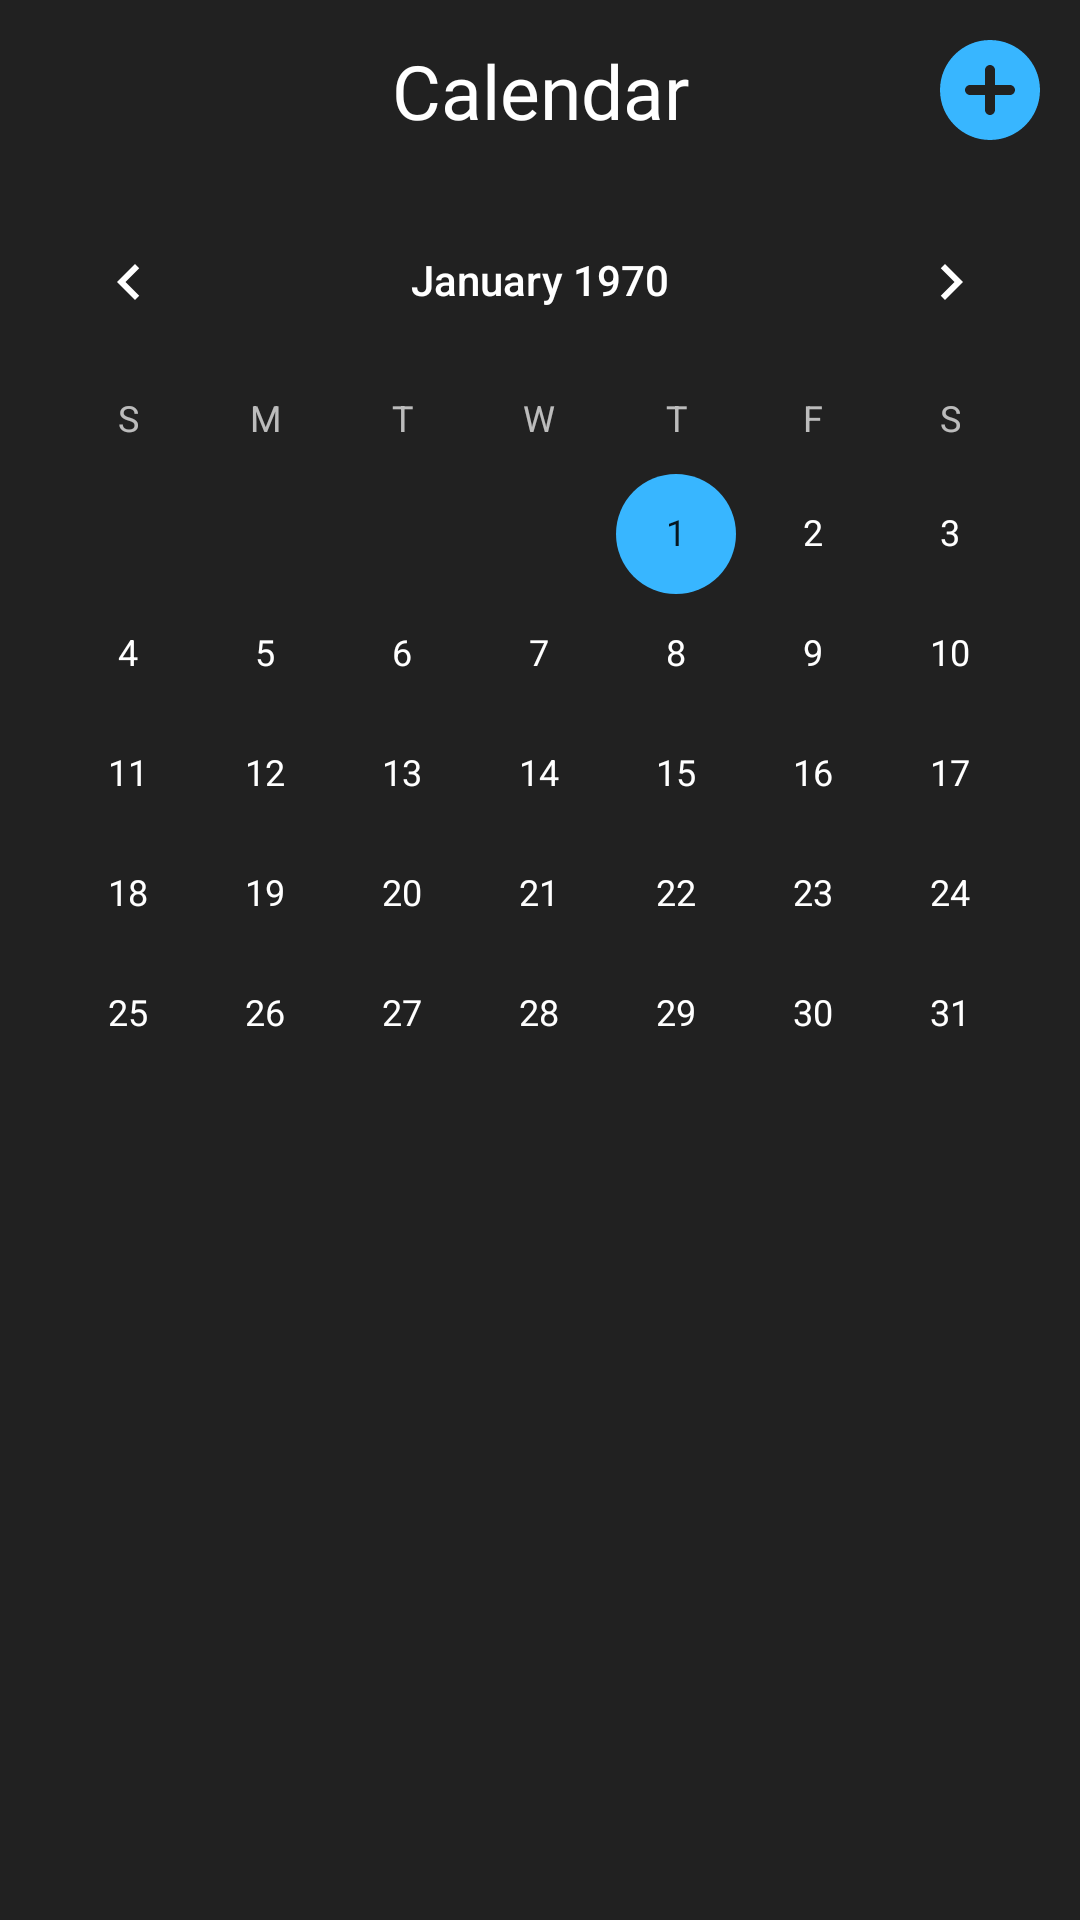

Point at icon controls on the screen. Image size 1080px×1920px, points as (x=x, y=y).
add: (x=990, y=90)
